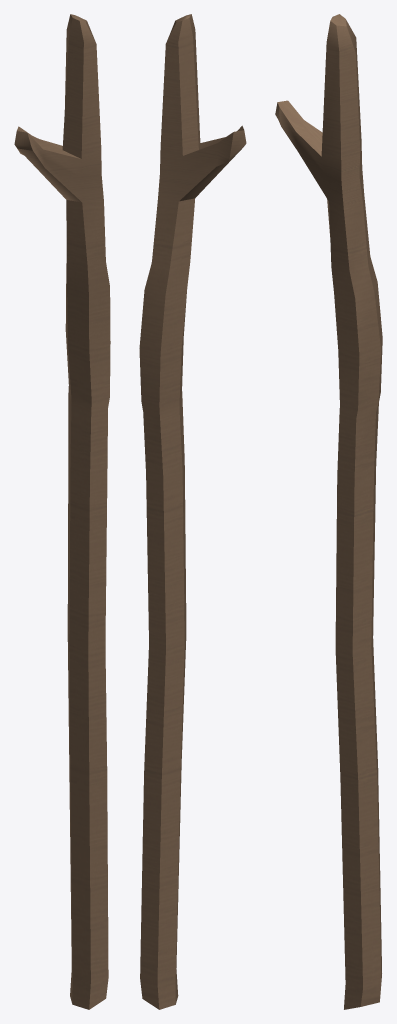
Rendered from stickBranch.fbx.
3 views of the same model, side by side, from view 1: azimuth 30°, elevation 25°; view 2: azimuth 150°, elevation 25°; view 3: azimuth 330°, elevation 25° (orthographic).
Parts seen in each view (by area): view 1: Stick; view 2: Stick; view 3: Stick.
Boxes of the visible parts, bbox=[...] form: Stick: bbox=[14, 14, 110, 1009]; Stick: bbox=[139, 14, 246, 1009]; Stick: bbox=[275, 14, 382, 1009].
Bounding box in the file's own units: 0.5924 × 5.6 × 0.2865.
1 material, 1 textured.
